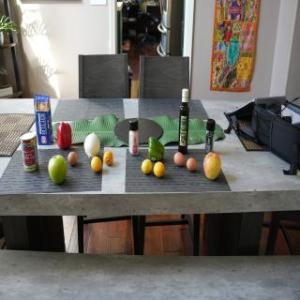bell_pepper: (147, 136, 165, 162), (57, 120, 72, 150)
egg: (186, 157, 198, 173), (174, 152, 186, 168)
onion: (84, 132, 102, 158)
